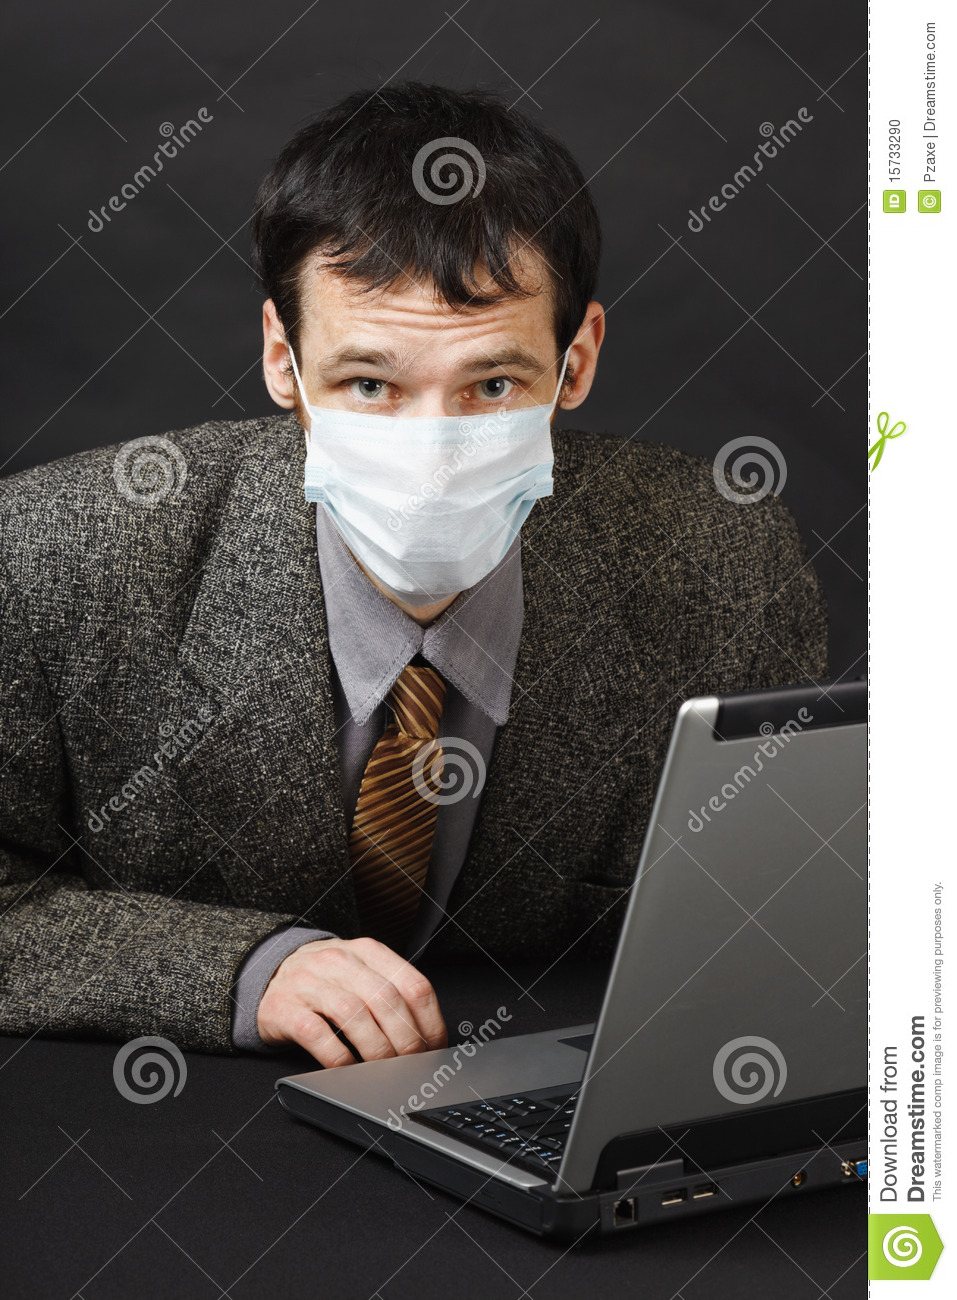mask: (300, 413, 554, 604)
